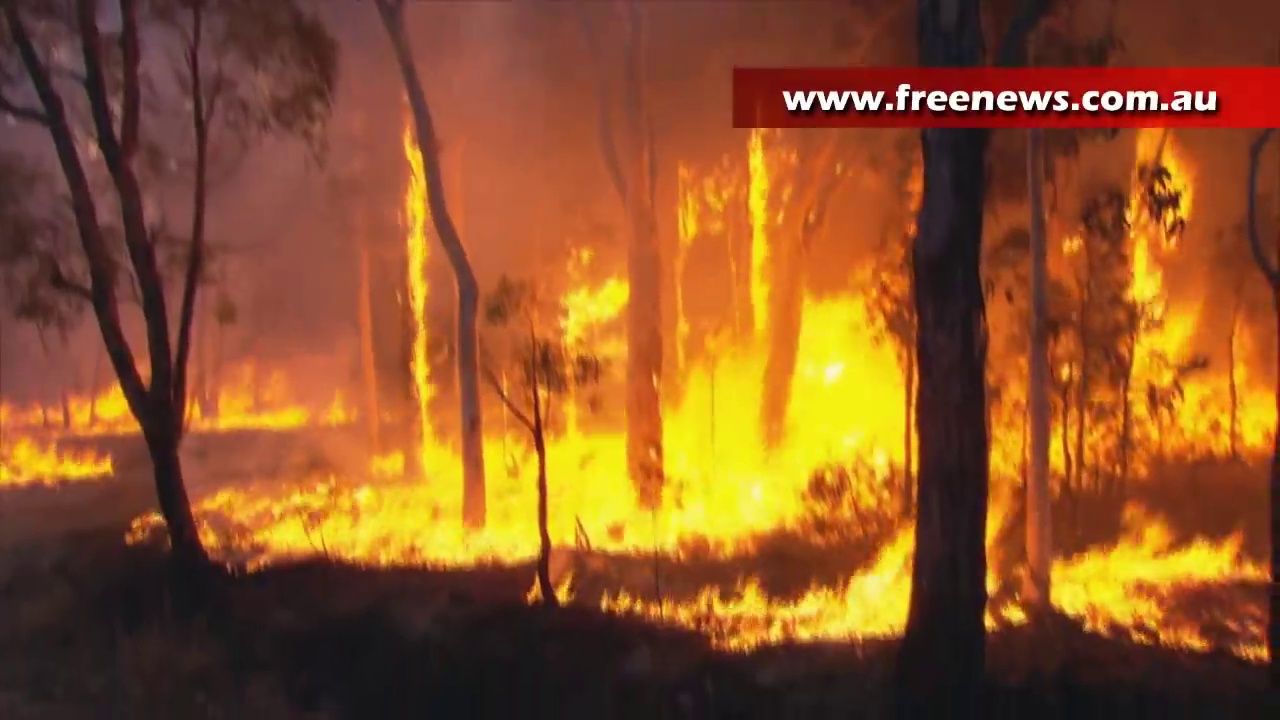fire: (195, 296, 917, 569), (602, 525, 913, 650), (1042, 517, 1278, 655), (1127, 361, 1276, 452), (1132, 135, 1190, 359), (994, 396, 1123, 480), (404, 153, 427, 400), (1, 442, 109, 479), (750, 131, 770, 326), (31, 393, 124, 429), (985, 496, 1005, 630), (569, 280, 625, 324), (677, 165, 694, 238)
